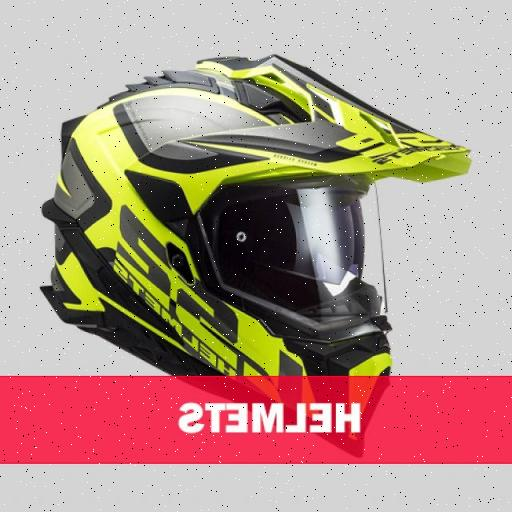Helmet: (46, 51, 470, 465)
